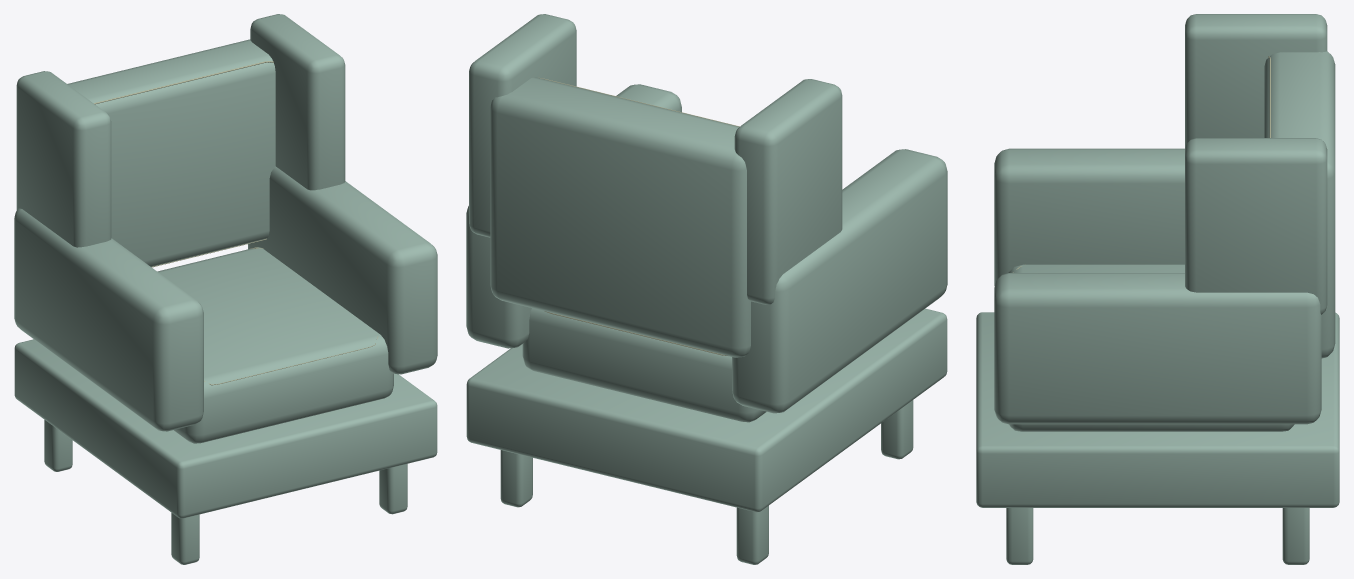
File: wingback-chair.glb
3 views of the same model, side by side, from view 1: azimuth 30°, elevation 25°; view 2: azimuth 150°, elevation 25°; view 3: azimuth 270°, elevation 25° (orthographic). The views are drawn at different scales.
Parts seen in each view (by area): view 1: wingback-chair; view 2: wingback-chair; view 3: wingback-chair.
Boxes of the visible parts, x1,y1,x2,y2 form: wingback-chair: [14, 14, 437, 564]; wingback-chair: [466, 14, 947, 564]; wingback-chair: [976, 14, 1339, 564].
Bounding box in the file's own units: 0.85 × 1.12 × 0.87.
